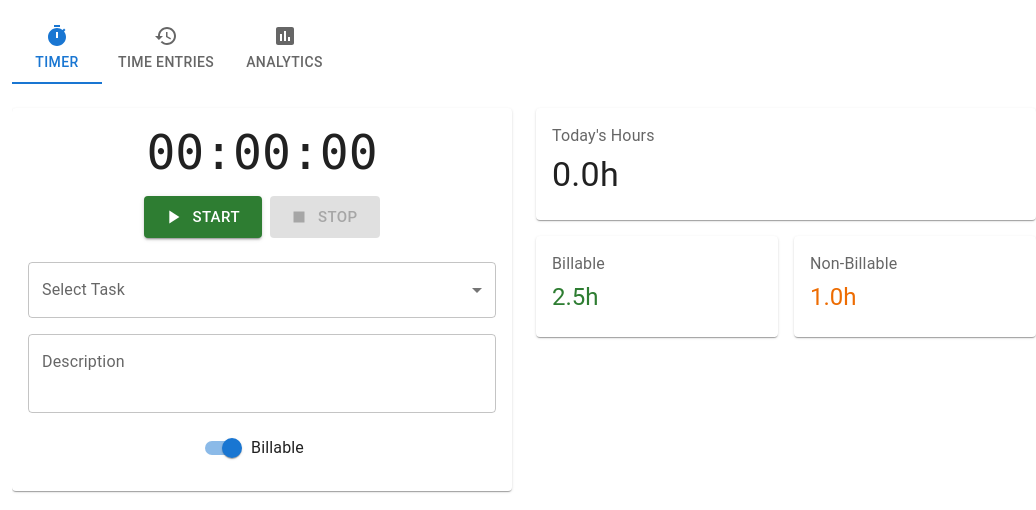
Test: TimeTracker › displays analytics in analytics tab
This screenshot has width=1036, height=510.
// Switch to analytics tab
Step 1. Click the tab "Analytics" → click(285, 48), box [230, 12, 339, 84]
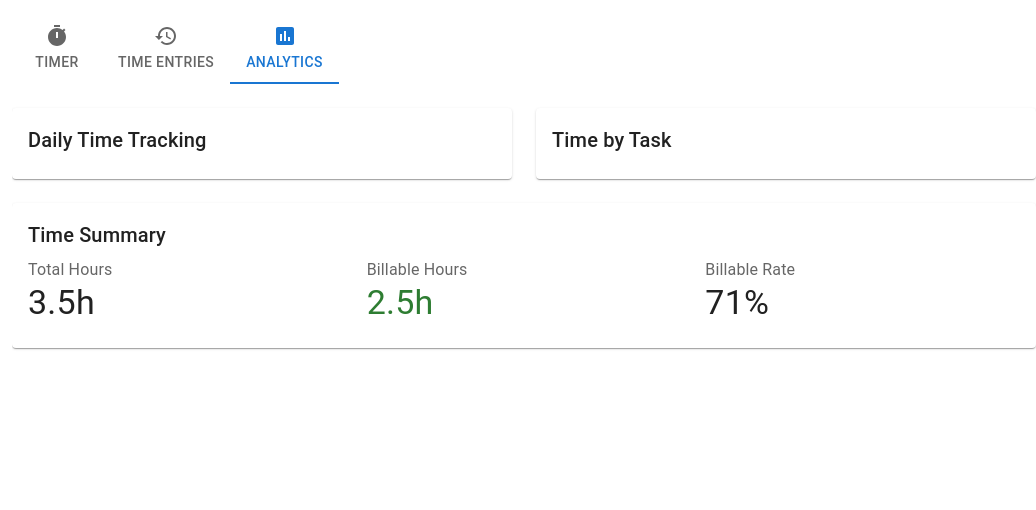
Check: the heading "Daily Time Tracking" is shown, box [28, 128, 206, 152]
Check: the heading "Time by Task" is shown, box [552, 128, 672, 152]
Check: the heading "Time Summary" is shown, box [28, 223, 166, 247]
